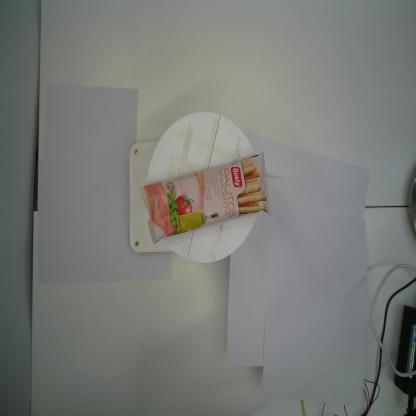Dessert: (138, 150, 274, 247)
